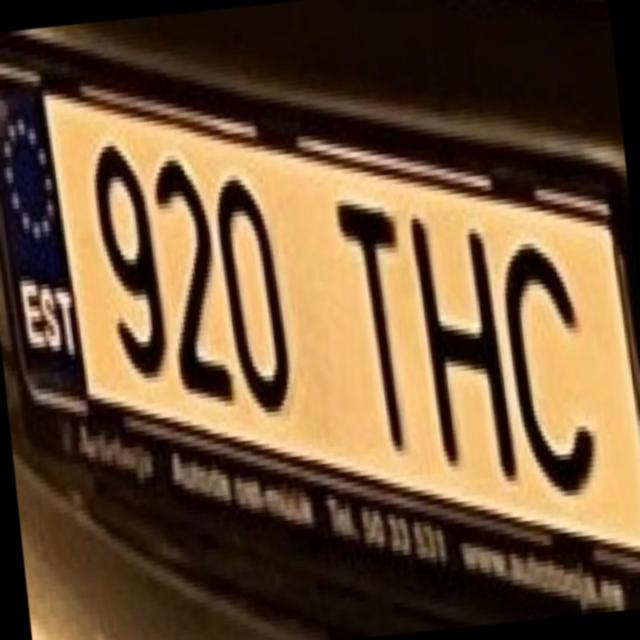0: (198, 150, 306, 416)
2: (138, 135, 237, 407)
9: (75, 115, 176, 388)
C: (484, 222, 606, 501)
H: (394, 190, 522, 490)
T: (321, 184, 428, 466)
